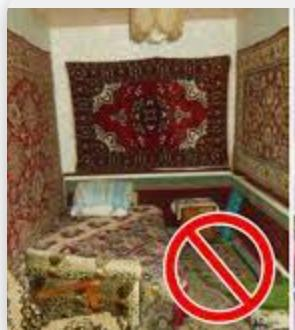carpet: (67, 58, 232, 174), (22, 206, 175, 330), (7, 30, 63, 264), (234, 27, 288, 203)
